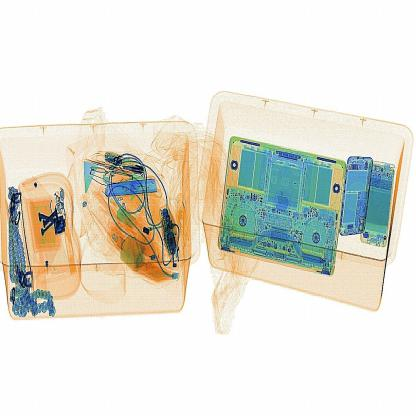pliers: (102, 173, 172, 206)
